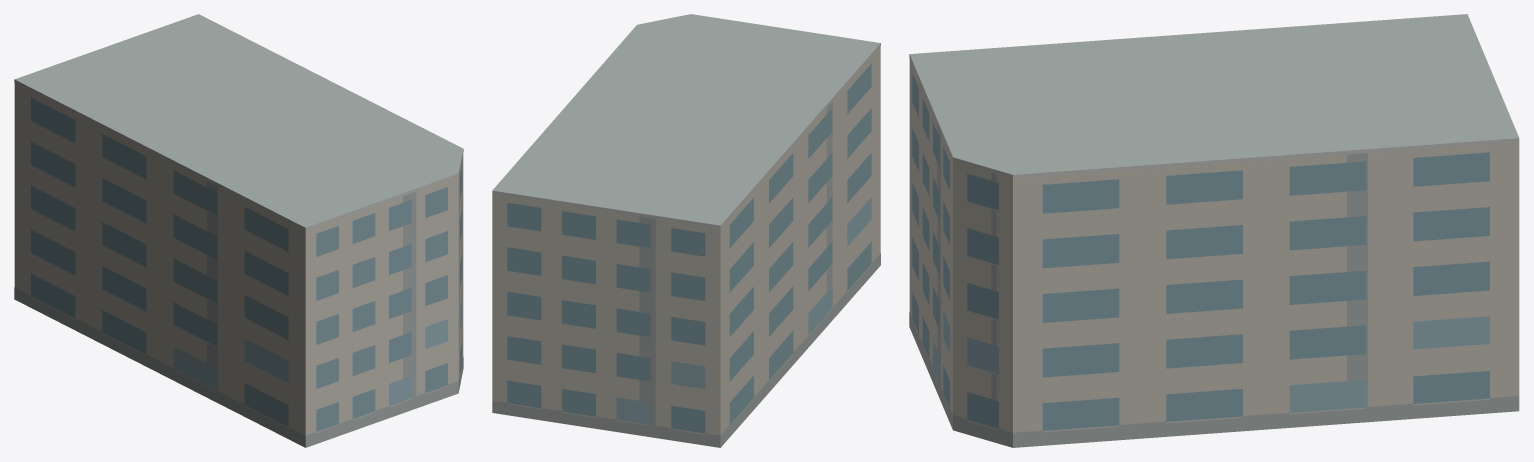
File: survey-upis-32837419.glb
3 renders of one model, left to right at view 1: azimuth 30°, elevation 25°; view 2: azimuth 150°, elevation 25°; view 3: azimuth 270°, elevation 25°, orthographic. The views are drawn at different scales.
Visible parts, largest first — view 1: survey-upis-32837419.tmp; view 2: survey-upis-32837419.tmp; view 3: survey-upis-32837419.tmp.
Part boxes in pixels (x1=…): survey-upis-32837419.tmp: x1=14, y1=14, x2=463, y2=447; survey-upis-32837419.tmp: x1=492, y1=14, x2=880, y2=447; survey-upis-32837419.tmp: x1=909, y1=14, x2=1519, y2=447.
Bounding box in the file's own units: 21.5 × 17 × 34.43.
